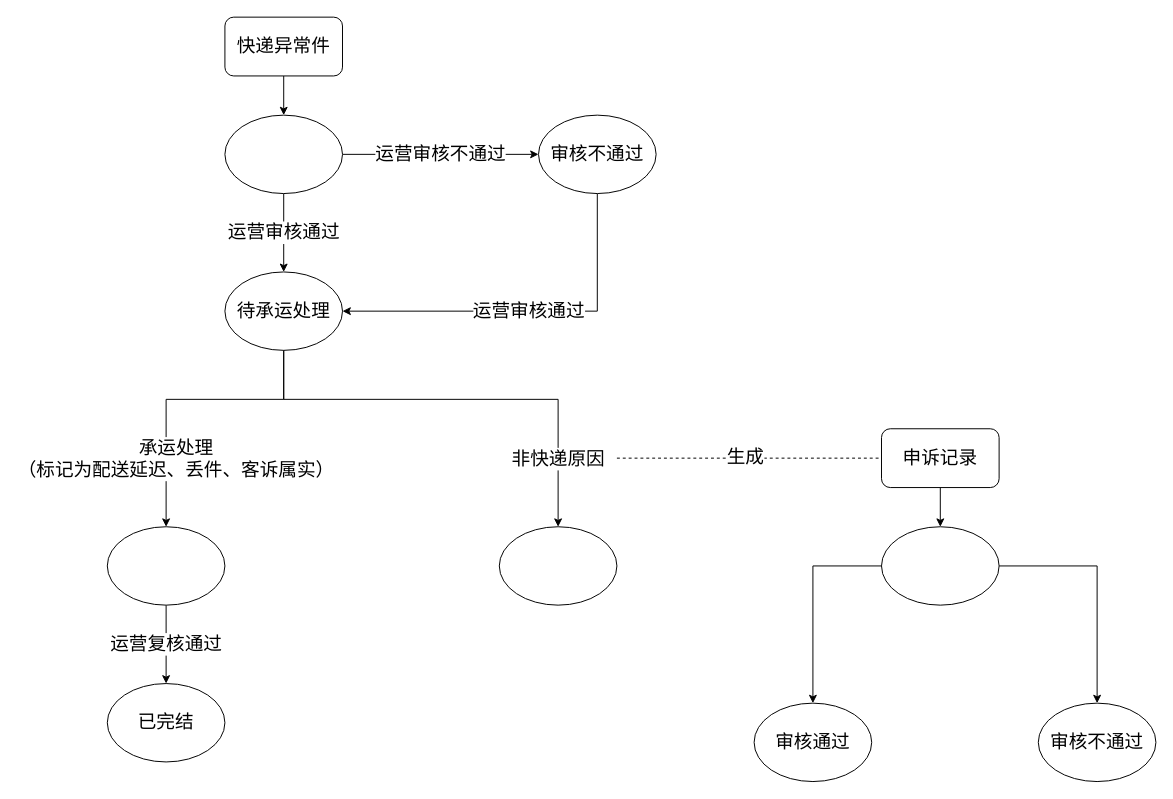
The diagram is 1173 pixels wide and 799 high, and some of its shapes have lost their labels. Here are the shapes that lost their labels. From the top down, the centre of each, then its label:
At (283,154): "新建".
At (165,565): "待运营复核".
At (557,565): "待运营审核".
At (940,565): "待处理".
